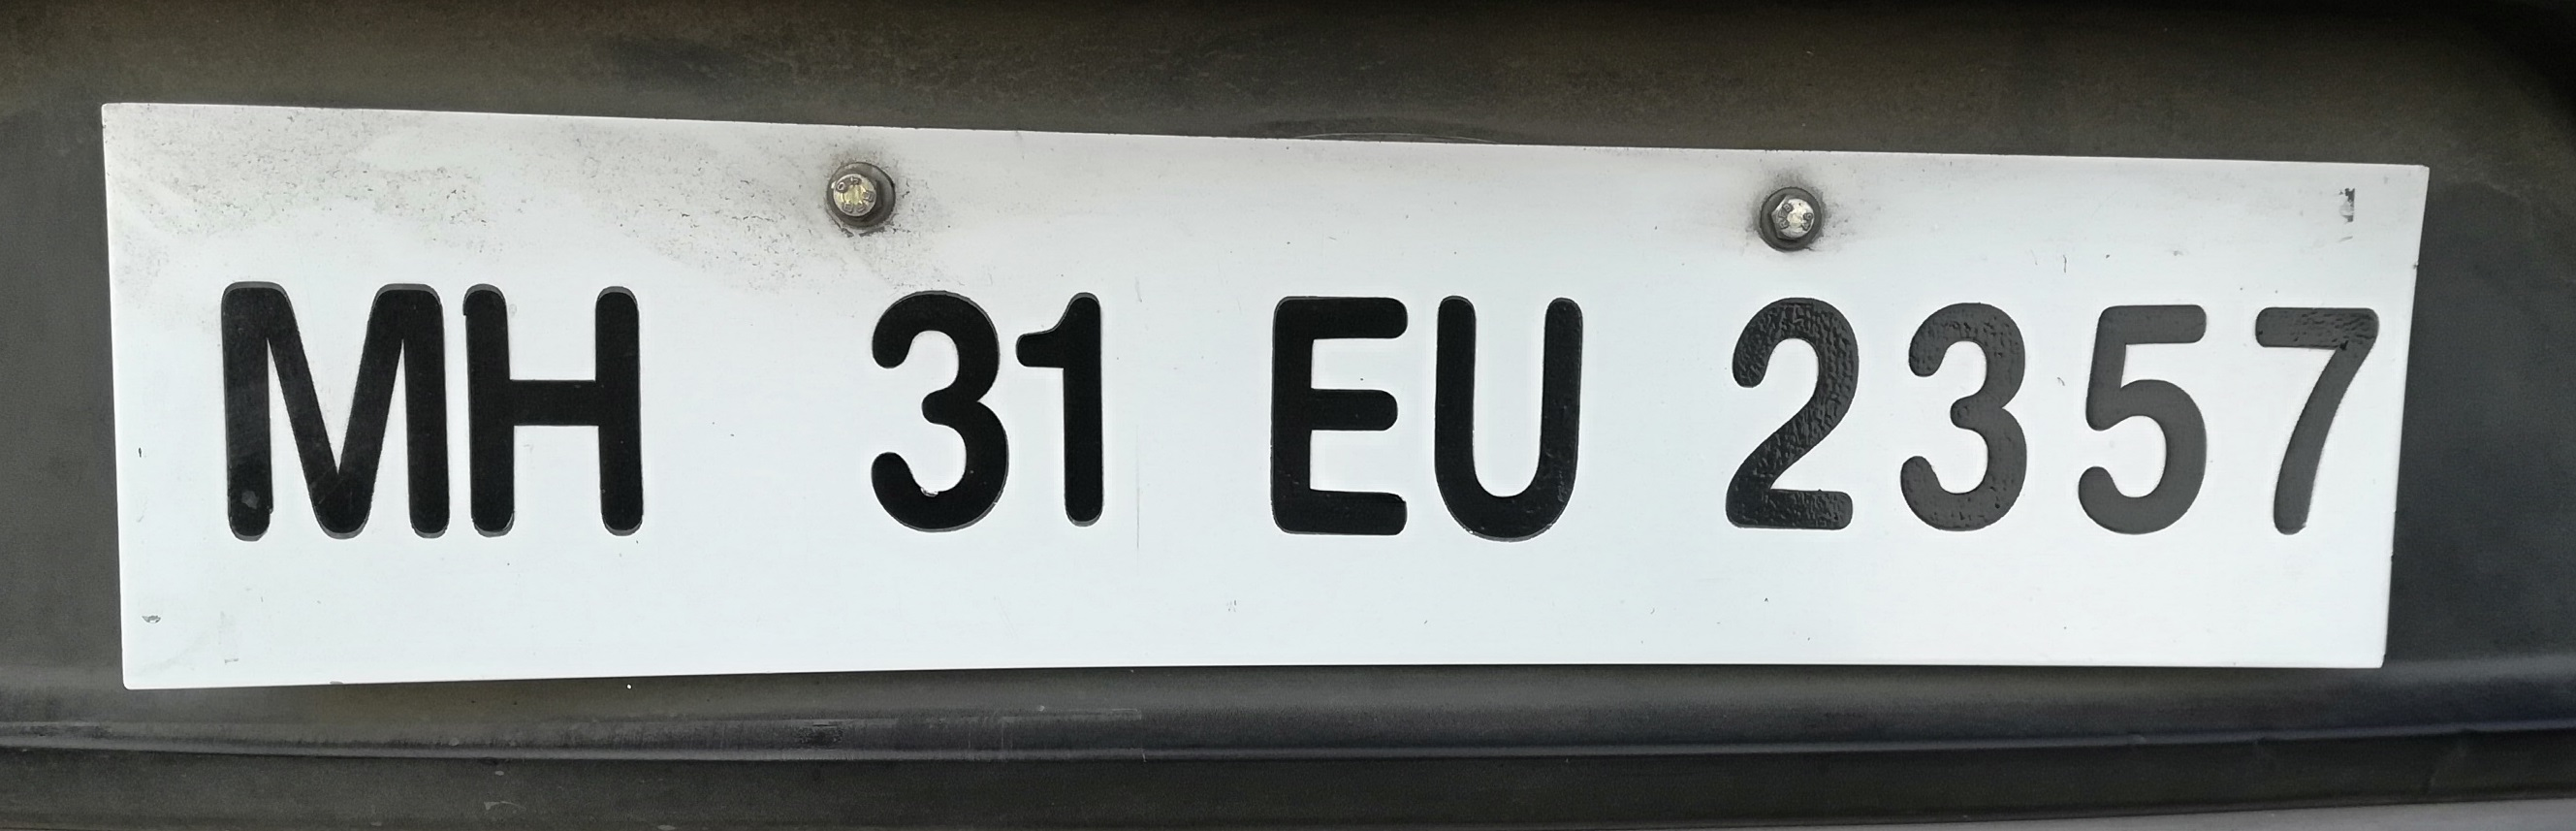numberplate: (86, 80, 2436, 665)
